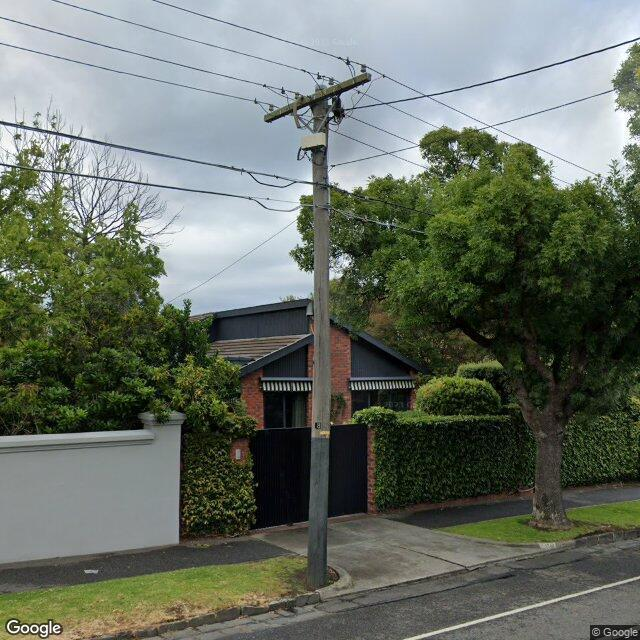crossarm: (264, 73, 372, 123)
timber-pole: (306, 85, 330, 590)
